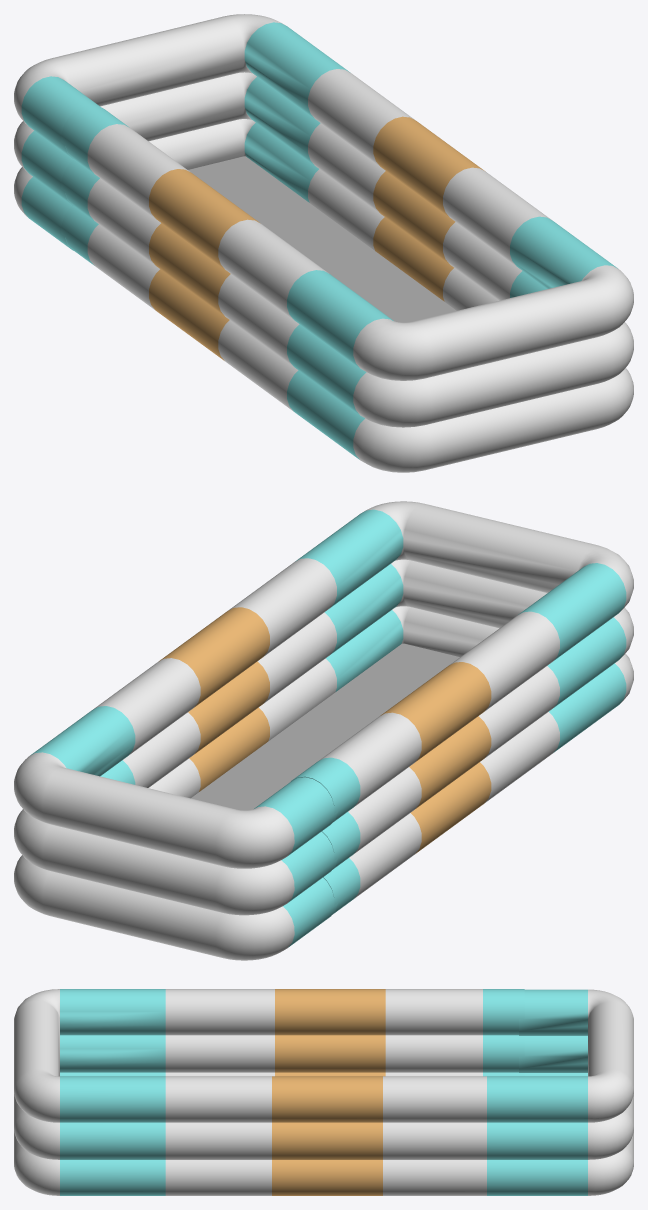
Rendered from pool 1.fbx.
3 views of the same model, one above another, from view 1: azimuth 30°, elevation 25°; view 2: azimuth 150°, elevation 25°; view 3: azimuth 270°, elevation 25° (orthographic). The views are drawn at different scales.
Parts seen in each view (by area): view 1: pCube2; view 2: pCube2; view 3: pCube2.
Part boxes in pixels (x1,y1,x2,y2): pCube2: (14, 14, 633, 472); pCube2: (14, 501, 633, 960); pCube2: (14, 989, 633, 1195).
Bounding box in the file's own units: 10.79 × 5.48 × 26.68.
